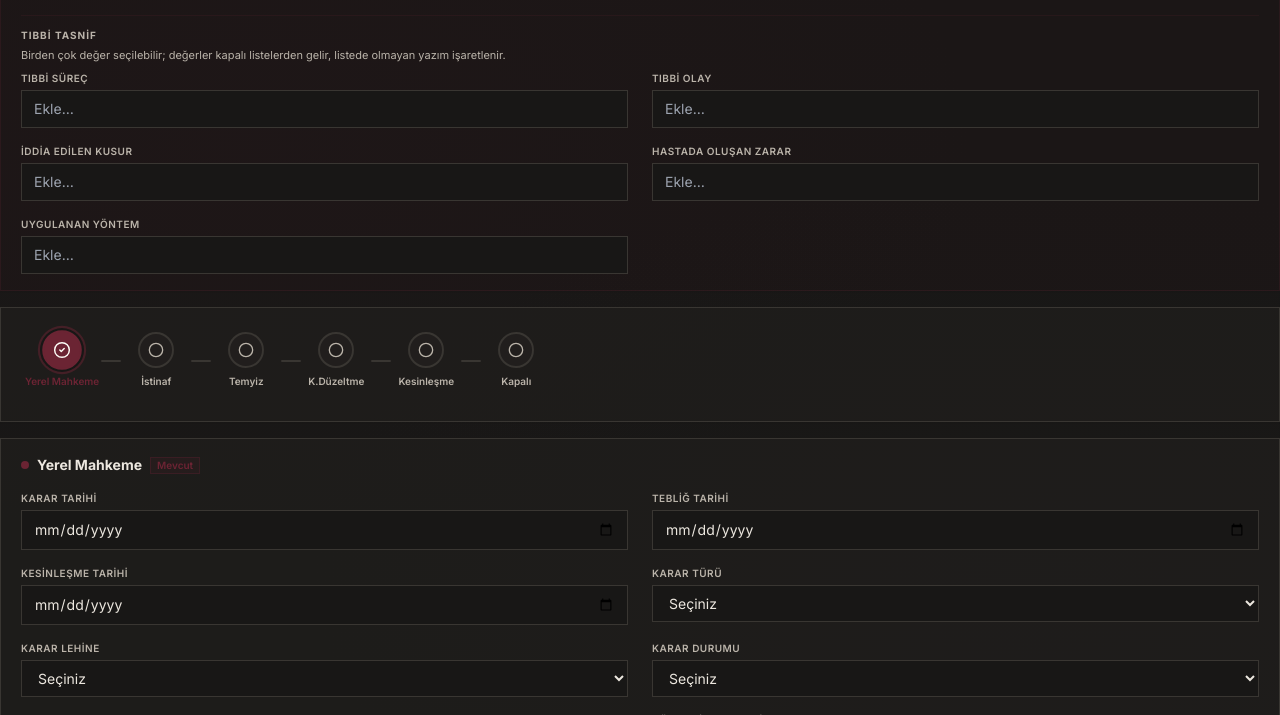
it: CaseTrackingPanel — aşama bilinmiyorken panel kilitlenmez (G075) › aşama BİLİNİYORSA gelecek aşama hâlâ kilitli (mevcut davranış korunur)
(page scrolled)
Click the button "Temyiz": [246, 360] box [213, 332, 279, 389]
(page scrolled)
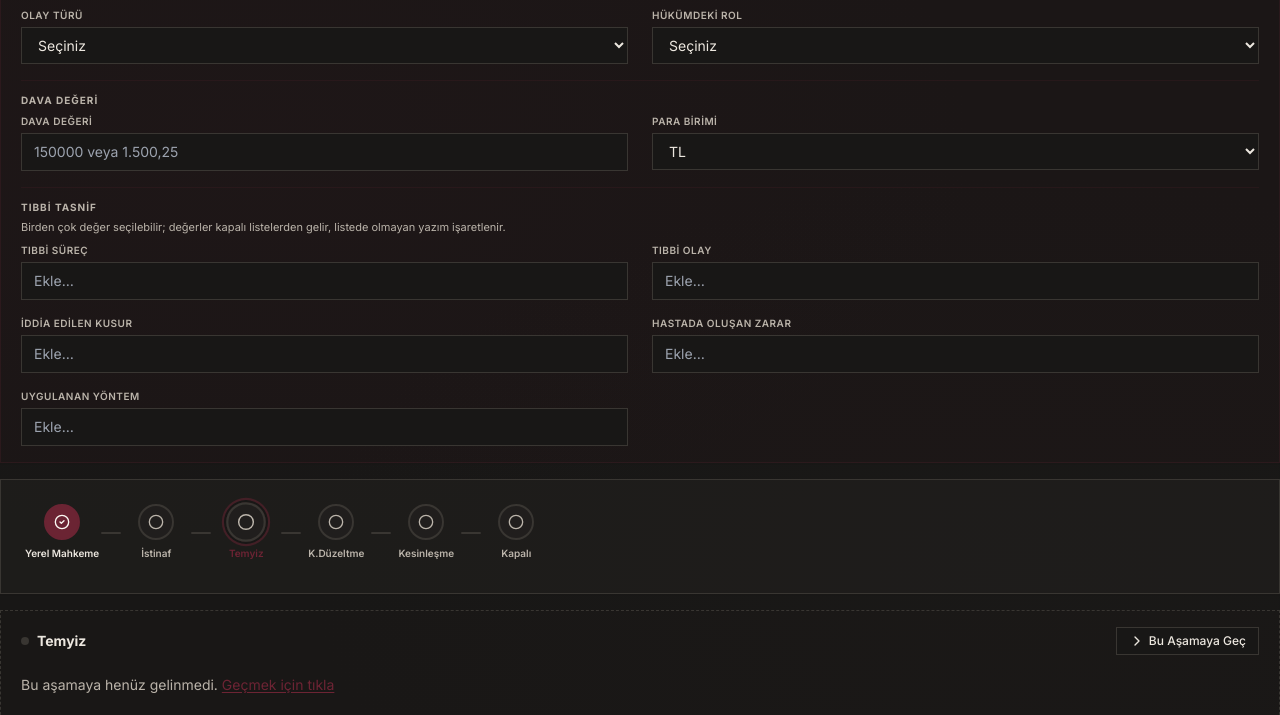
Check: the text "Bu aşamaya henüz gelinmedi" is shown, box [21, 676, 218, 693]
